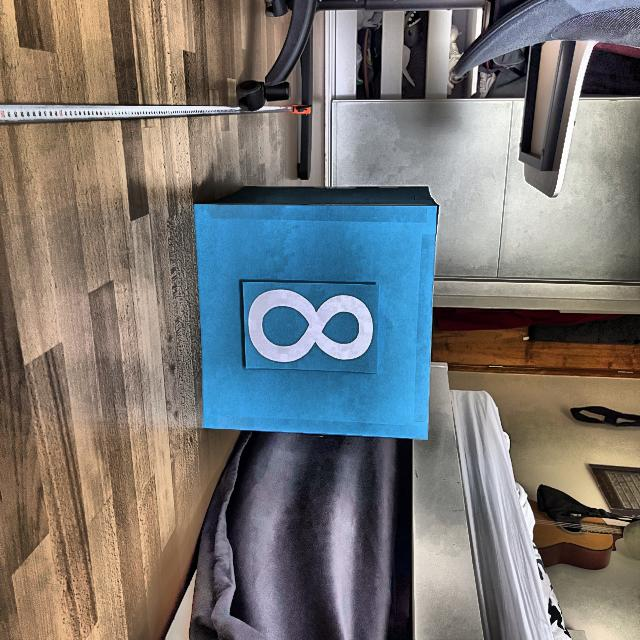blue box: (195, 178, 435, 441)
eight: (242, 284, 377, 367)
